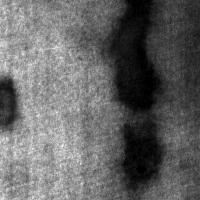patches: (125, 0, 200, 117), (112, 8, 200, 98), (109, 1, 160, 111), (120, 117, 163, 186), (1, 73, 21, 132)
